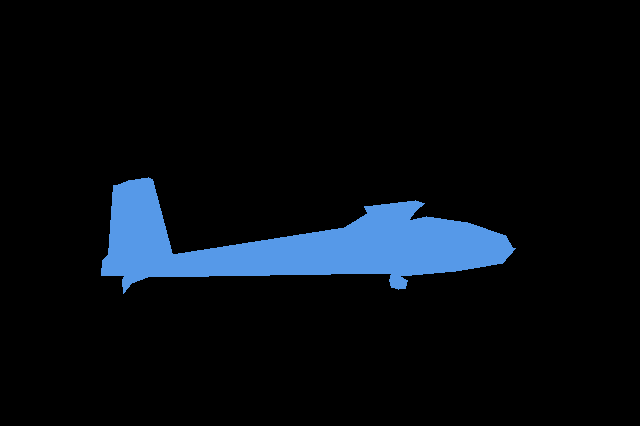Airplane: (101, 177, 516, 294)
